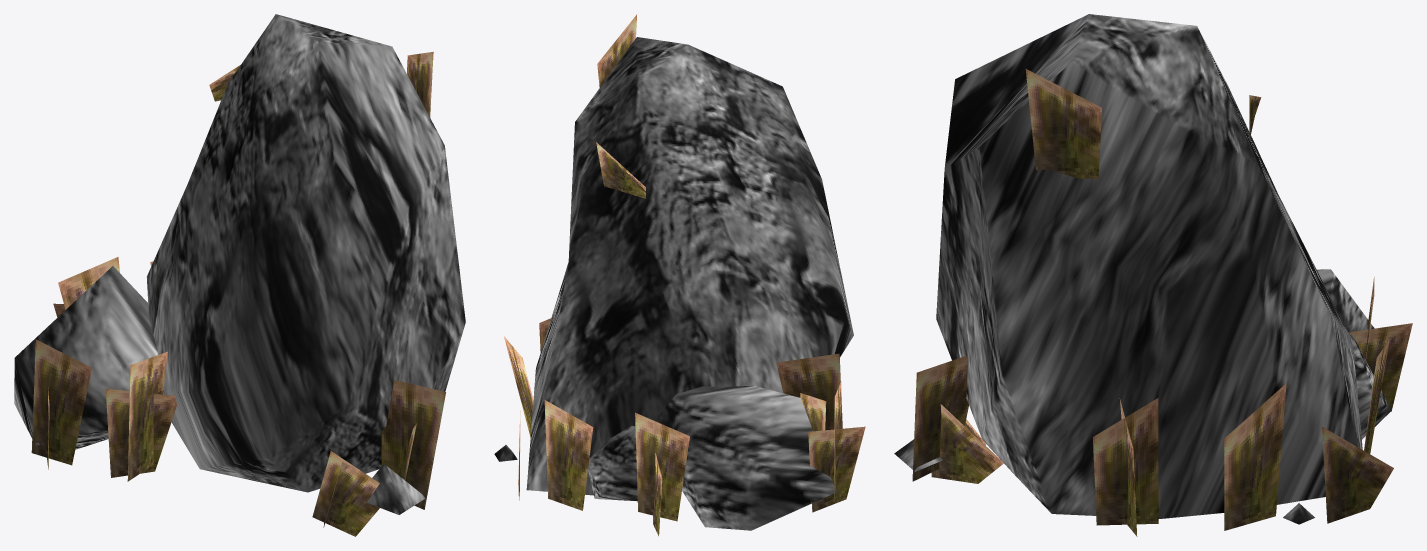
Rendered from Stone02.obj.
3 views of the same model, side by side, from view 1: azimuth 30°, elevation 25°; view 2: azimuth 150°, elevation 25°; view 3: azimuth 270°, elevation 25° (orthographic). The views are drawn at different scales.
Visible parts, largest first — view 1: Mesh_0, Mesh_1; view 2: Mesh_0, Mesh_1; view 3: Mesh_0, Mesh_1.
Part boxes in pixels (x1,y1,x2,y2): Mesh_0: (14,14,465,514); Mesh_1: (31,51,445,536); Mesh_0: (494,37,853,530); Mesh_1: (504,14,865,536); Mesh_0: (894,14,1391,524); Mesh_1: (912,69,1412,536).
Size of the model in its own units: 2.55 by 2.78 by 2.78.
2 materials, 2 textured.
